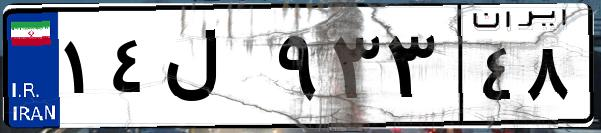1: (57, 26, 110, 100)
3: (385, 28, 445, 110), (330, 28, 385, 110)
4: (475, 38, 525, 113), (110, 28, 158, 98)
8: (525, 38, 570, 115)
9: (270, 28, 330, 110)
ل: (158, 20, 270, 120)
